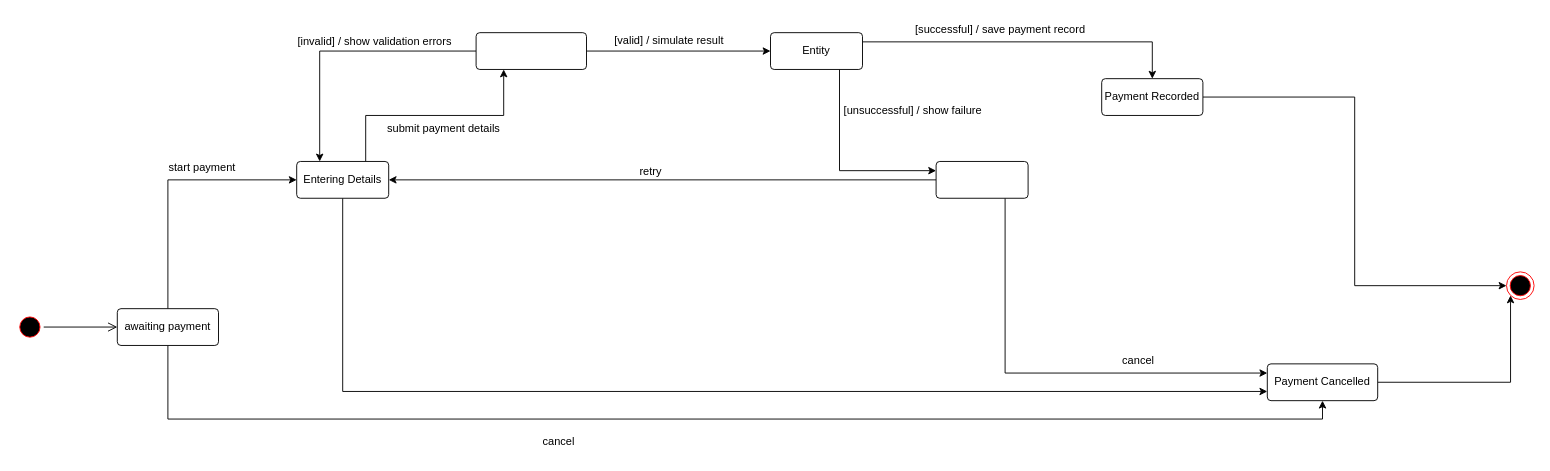
The diagram is 1550 pixels wide and 471 high, and some of its shapes have lost their labels. Here are the shapes that lost their labels. From the top down, the box of each, then its label:
(475, 32, 586, 69): Validating Details
(935, 161, 1028, 198): Payment Failed
